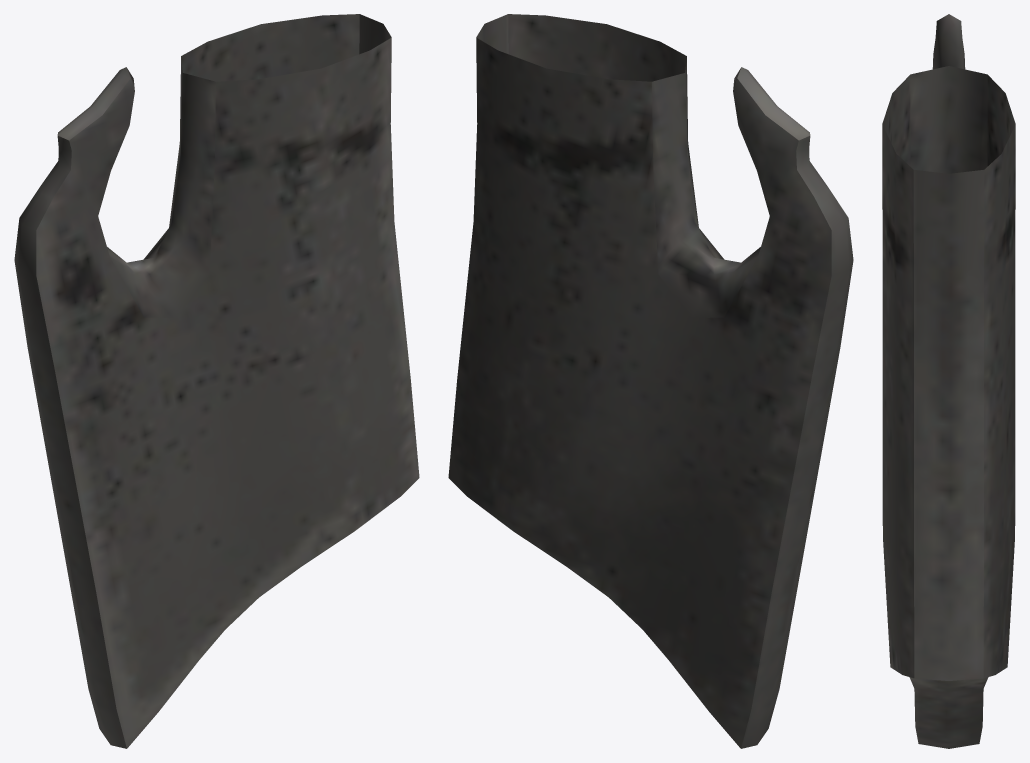
Rendered from wm_mordor_set1_sword_a01_pommel.fbx.
The picture shows the model from 3 angles, left to right: view 1: azimuth 30°, elevation 25°; view 2: azimuth 150°, elevation 25°; view 3: azimuth 270°, elevation 25°; orthographic projection. The views are drawn at different scales.
Parts seen in each view (by area): view 1: wm_mordor_set1_sword_a01_pommel; view 2: wm_mordor_set1_sword_a01_pommel; view 3: wm_mordor_set1_sword_a01_pommel.
Part boxes in pixels (left/top/right/bottom): wm_mordor_set1_sword_a01_pommel: left=14, top=14, right=419, bottom=748; wm_mordor_set1_sword_a01_pommel: left=448, top=14, right=853, bottom=748; wm_mordor_set1_sword_a01_pommel: left=882, top=14, right=1015, bottom=748.
Size of the model in its own units: 0.0623 by 0.0168 by 0.1032.
Materials: 1 (1 with a texture image).
